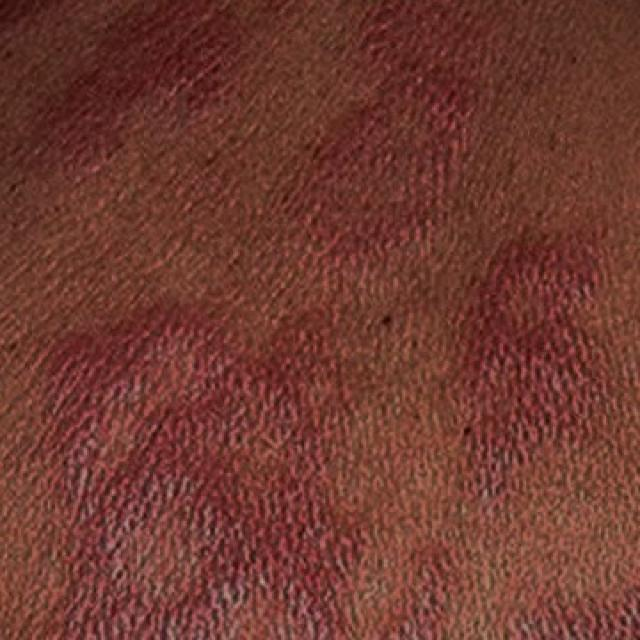Leprosy: (14, 301, 460, 638), (289, 0, 526, 274), (444, 217, 636, 487)
